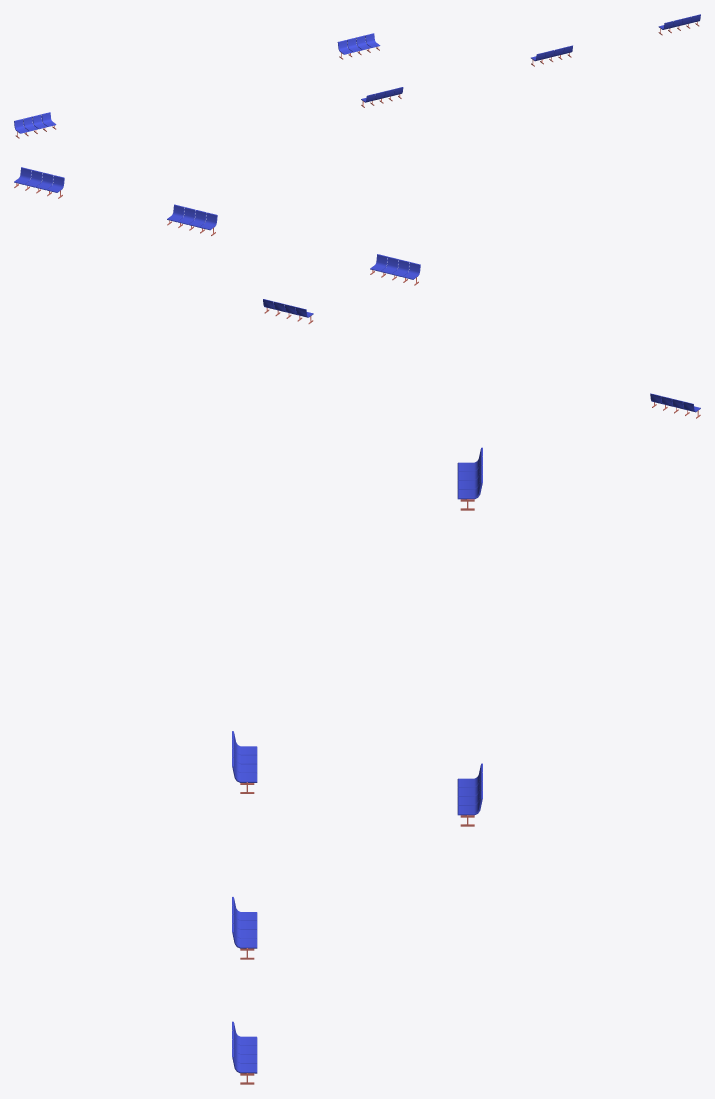
The model's file is Banks.fbx.
3 views of the same model, one above another, from view 1: azimuth 30°, elevation 25°; view 2: azimuth 150°, elevation 25°; view 3: azimuth 270°, elevation 25° (orthographic). The views are drawn at different scales.
Parts seen in each view (by area): view 1: bank_4, bank_5, bank_3, bank_2, bank_1; view 2: bank_3, bank_2, bank_1, bank_4, bank_5; view 3: bank_1, bank_4, bank_5, bank_2, bank_3.
Part boxes in pixels (<box>): bank_4: <box>337,33,380,59</box>; bank_5: <box>14,112,56,138</box>; bank_3: <box>361,87,403,107</box>; bank_2: <box>531,45,572,66</box>; bank_1: <box>658,14,700,35</box>; bank_3: <box>370,254,420,285</box>; bank_2: <box>167,204,217,235</box>; bank_1: <box>14,167,64,198</box>; bank_4: <box>263,299,313,323</box>; bank_5: <box>650,393,700,418</box>; bank_1: <box>232,1021,257,1084</box>; bank_4: <box>457,763,482,826</box>; bank_5: <box>457,447,482,510</box>; bank_2: <box>232,897,257,959</box>; bank_3: <box>232,731,257,793</box>.
Bounding box in the file's own units: 12126 × 253 × 2105.
